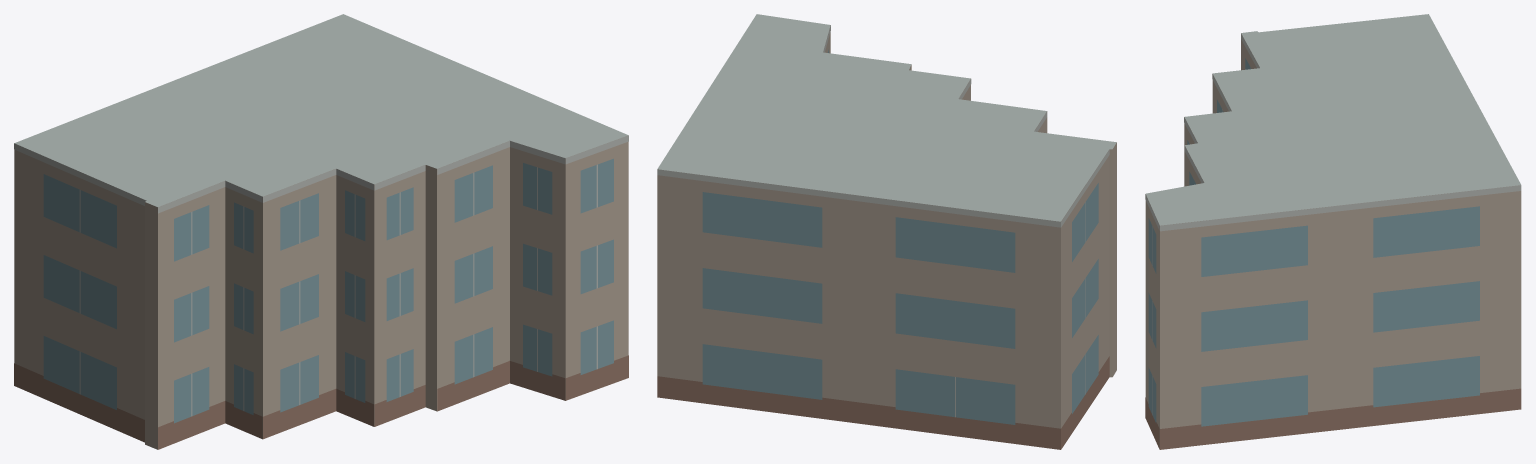
The model's file is survey-upis-32934257.glb.
3 renders of one model, left to right at view 1: azimuth 30°, elevation 25°; view 2: azimuth 150°, elevation 25°; view 3: azimuth 270°, elevation 25°, orthographic. The views are drawn at different scales.
Parts seen in each view (by area): view 1: survey-upis-32934257.tmp; view 2: survey-upis-32934257.tmp; view 3: survey-upis-32934257.tmp.
Part boxes in pixels (x1,y1,x2,y2): survey-upis-32934257.tmp: (14,14,628,449); survey-upis-32934257.tmp: (657,14,1116,449); survey-upis-32934257.tmp: (1145,14,1521,449).
Size of the model in its own units: 19.11 by 9.44 by 14.35.
